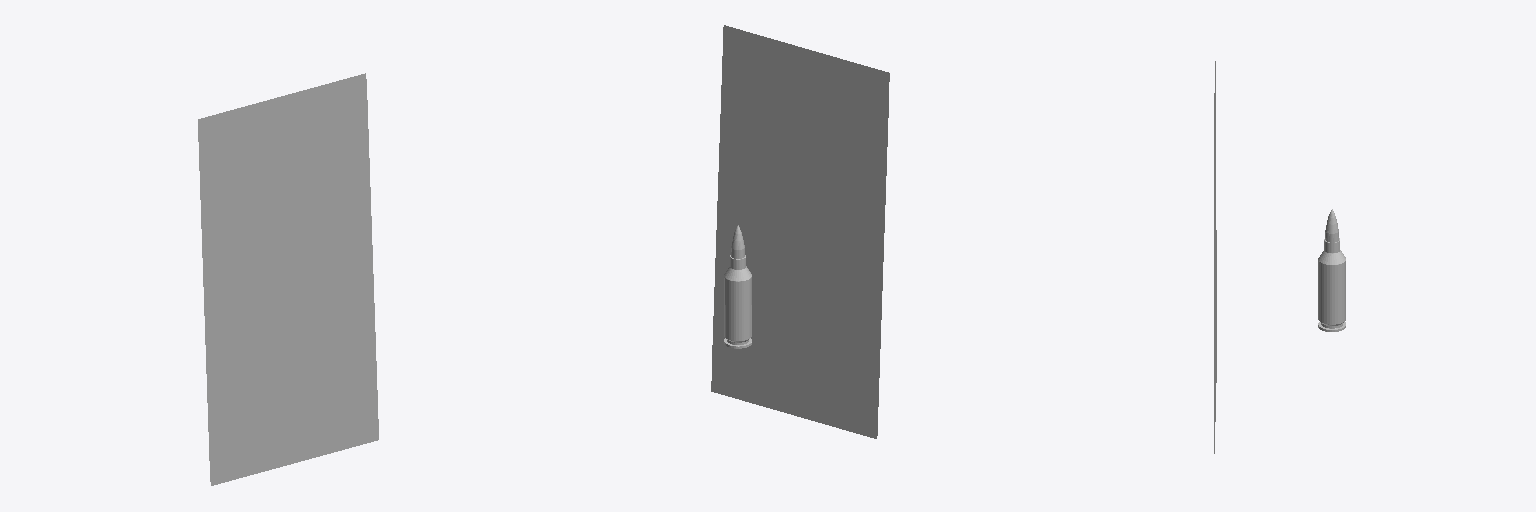
File: shoot.obj
The picture shows the model from 3 angles: view 1: azimuth 30°, elevation 25°; view 2: azimuth 150°, elevation 25°; view 3: azimuth 270°, elevation 25°; orthographic projection.
Visible parts, largest first — view 1: Plane.001_Mesh, Plane_Mesh; view 2: Plane_Mesh, Plane.001_Mesh, Cylinder_Mesh; view 3: Cylinder_Mesh, Plane_Mesh.
Boxes of the visible parts, x1,y1,x2,y2 form: Plane.001_Mesh: [199, 98, 378, 485]; Plane_Mesh: [198, 73, 366, 460]; Plane_Mesh: [712, 25, 889, 415]; Plane.001_Mesh: [711, 111, 888, 438]; Cylinder_Mesh: [724, 255, 751, 348]; Cylinder_Mesh: [1318, 238, 1345, 331]; Plane_Mesh: [1214, 61, 1216, 446].
Size of the model in its own units: 21.92 by 43.76 by 14.